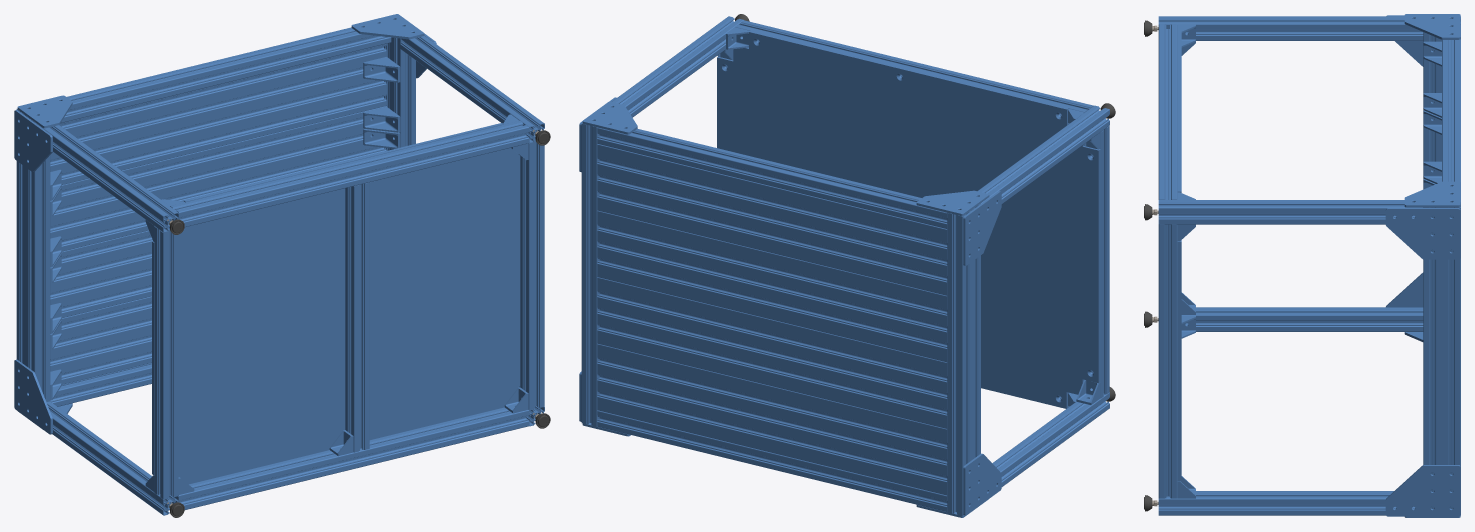
File: vention_table.dae
3 renders of one model, left to right at view 1: azimuth 30°, elevation 25°; view 2: azimuth 150°, elevation 25°; view 3: azimuth 270°, elevation 25°, orthographic. The views are drawn at different scales.
Parts seen in each view (by area): view 1: node_bb579c30_9ce5_4d12_a173_57b8efb4b684_mesh4, node_bb579c30_9ce5_4d12_a173_57b8efb4b684_mesh1, node_bb579c30_9ce5_4d12_a173_57b8efb4b684_mesh0, node_bb579c30_9ce5_4d12_a173_57b8efb4b684_mesh3; view 2: node_bb579c30_9ce5_4d12_a173_57b8efb4b684_mesh4, node_bb579c30_9ce5_4d12_a173_57b8efb4b684_mesh0, node_bb579c30_9ce5_4d12_a173_57b8efb4b684_mesh1; view 3: node_bb579c30_9ce5_4d12_a173_57b8efb4b684_mesh1, node_bb579c30_9ce5_4d12_a173_57b8efb4b684_mesh0, node_bb579c30_9ce5_4d12_a173_57b8efb4b684_mesh4, node_bb579c30_9ce5_4d12_a173_57b8efb4b684_mesh3.
Part boxes in pixels (left/top/right/bottom): node_bb579c30_9ce5_4d12_a173_57b8efb4b684_mesh4: left=14, top=14, right=520, bottom=484; node_bb579c30_9ce5_4d12_a173_57b8efb4b684_mesh1: left=35, top=27, right=544, bottom=515; node_bb579c30_9ce5_4d12_a173_57b8efb4b684_mesh0: left=16, top=37, right=535, bottom=498; node_bb579c30_9ce5_4d12_a173_57b8efb4b684_mesh3: left=170, top=130, right=550, bottom=517; node_bb579c30_9ce5_4d12_a173_57b8efb4b684_mesh4: left=579, top=30, right=1100, bottom=517; node_bb579c30_9ce5_4d12_a173_57b8efb4b684_mesh0: left=581, top=27, right=1109, bottom=516; node_bb579c30_9ce5_4d12_a173_57b8efb4b684_mesh1: left=597, top=16, right=1109, bottom=511; node_bb579c30_9ce5_4d12_a173_57b8efb4b684_mesh1: left=1158, top=16, right=1460, bottom=515; node_bb579c30_9ce5_4d12_a173_57b8efb4b684_mesh0: left=1159, top=16, right=1460, bottom=515; node_bb579c30_9ce5_4d12_a173_57b8efb4b684_mesh4: left=1177, top=14, right=1460, bottom=517; node_bb579c30_9ce5_4d12_a173_57b8efb4b684_mesh3: left=1144, top=20, right=1152, bottom=511.
Size of the model in its own units: 1092 by 755 by 822.
